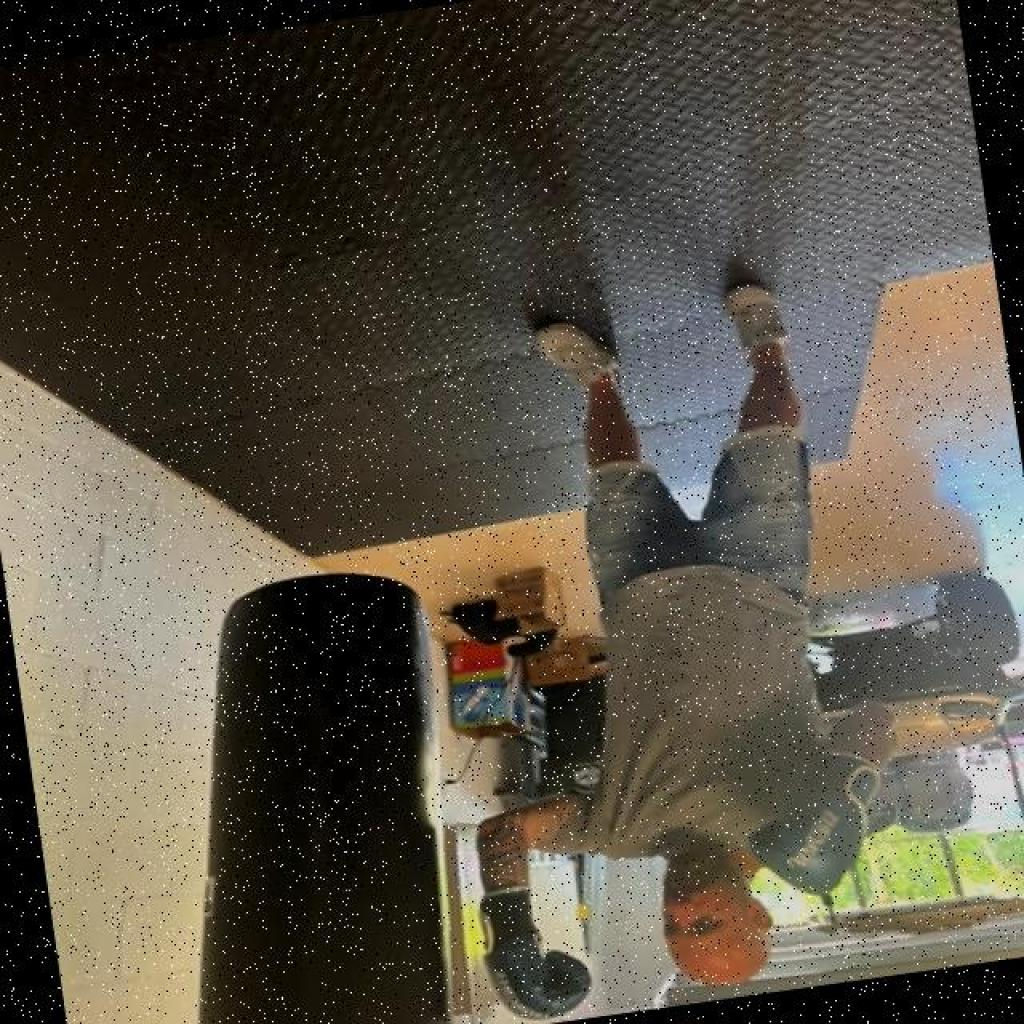uppercut: (400, 693, 926, 1024)
